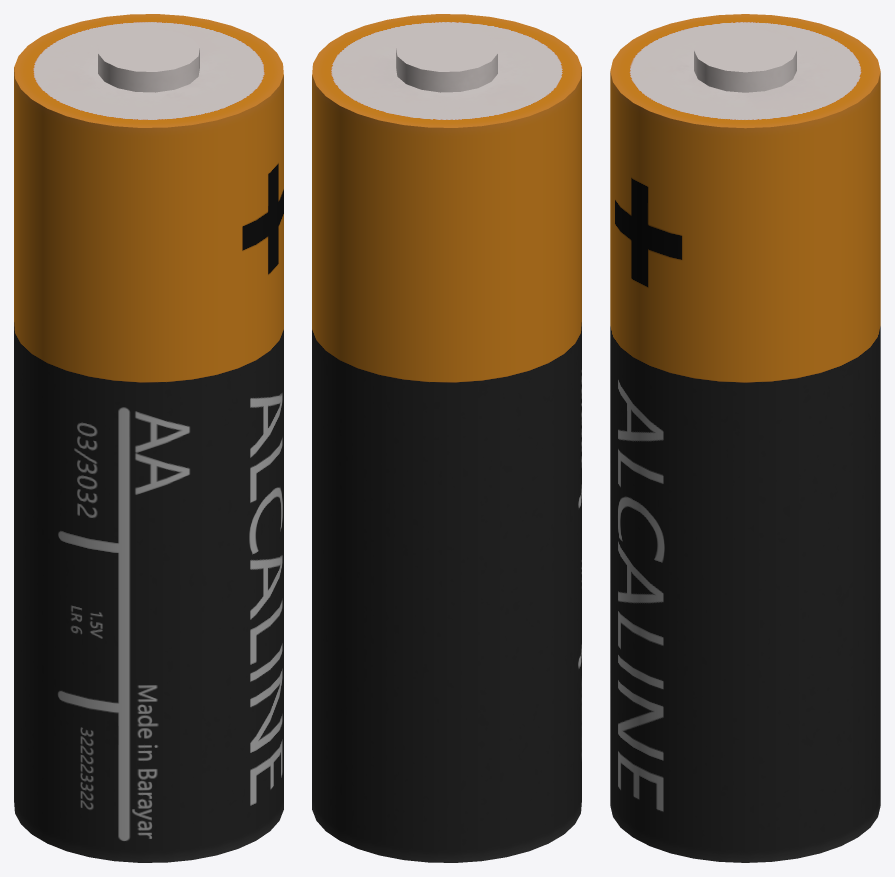
File: battery.fbx
The picture shows the model from 3 angles, left to right: view 1: azimuth 30°, elevation 25°; view 2: azimuth 150°, elevation 25°; view 3: azimuth 270°, elevation 25°; orthographic projection.
Parts seen in each view (by area): view 1: Battery_low; view 2: Battery_low; view 3: Battery_low.
Part boxes in pixels (x1,y1,x2,y2): Battery_low: (14, 14, 283, 862); Battery_low: (312, 14, 581, 862); Battery_low: (610, 14, 880, 862).
Size of the model in its own units: 1.6 by 4.93 by 1.6.
Materials: 1 (1 with a texture image).
